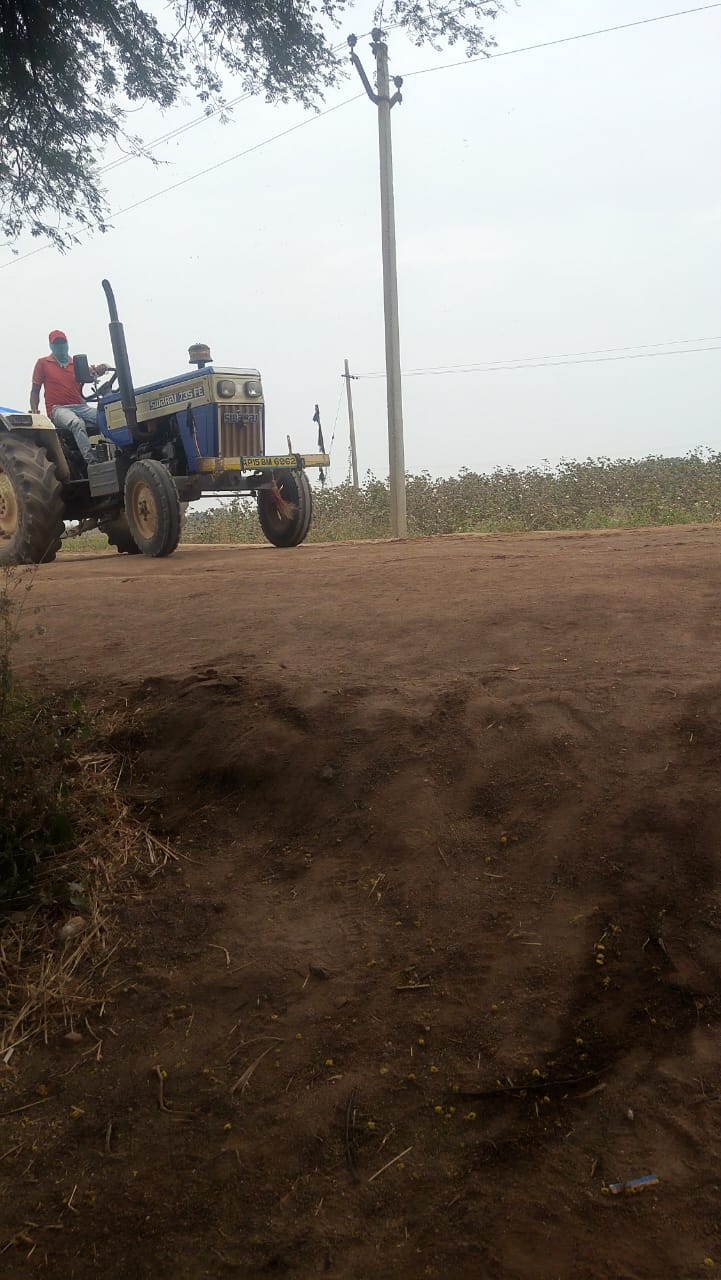num_plate: (238, 454, 303, 470)
